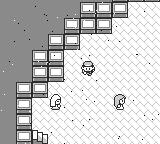main: (81, 60, 95, 76)
no-caminable: (16, 0, 130, 143), (1, 0, 80, 143)
npc: (50, 94, 62, 110), (114, 94, 126, 110)
puerta: (32, 130, 48, 143)
